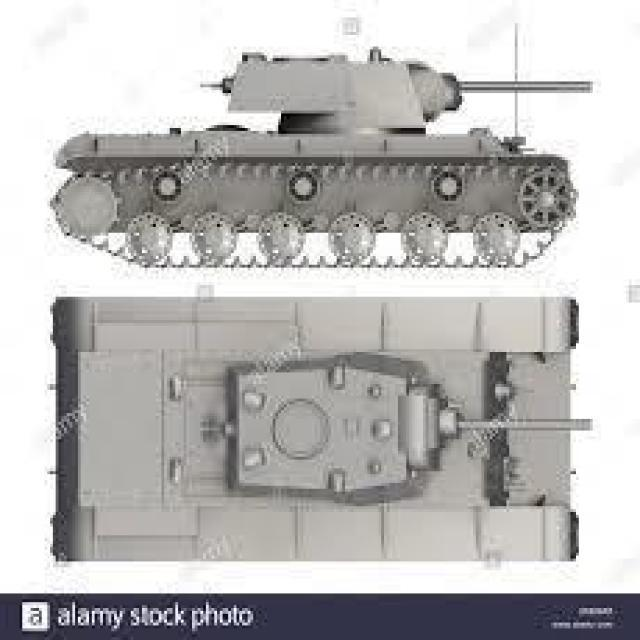MIL_MBT: (39, 288, 607, 564), (45, 39, 609, 275)
